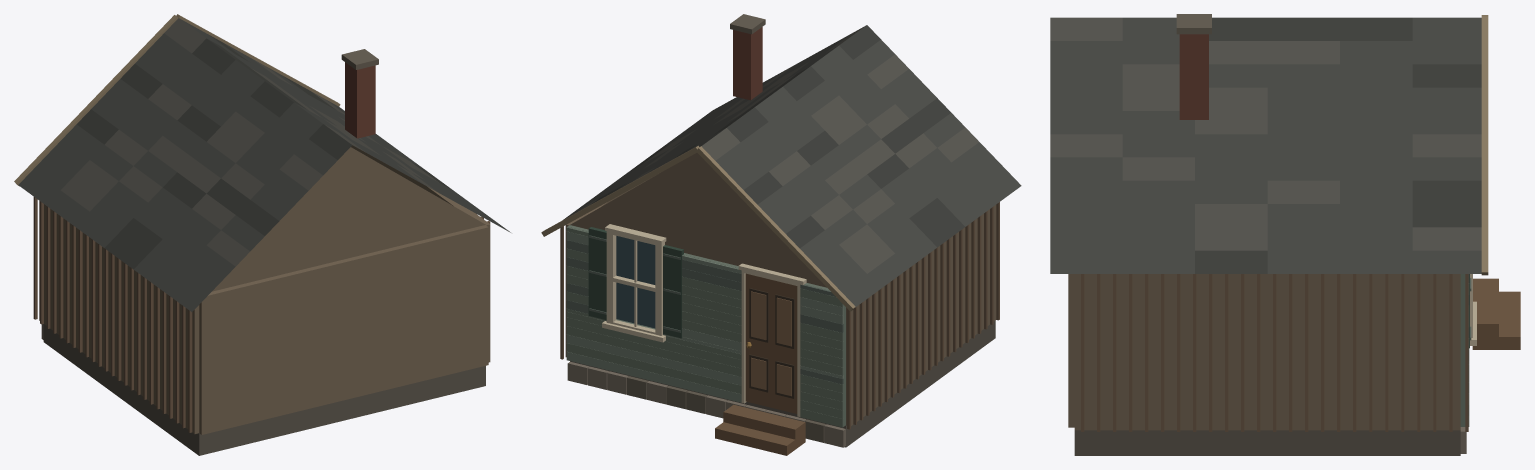
Rendered from black_creek_cottage_b.glb.
3 views of the same model, side by side, from view 1: azimuth 30°, elevation 25°; view 2: azimuth 150°, elevation 25°; view 3: azimuth 270°, elevation 25° (orthographic). The views are drawn at different scales.
Parts seen in each view (by area): view 1: black_creek_cottage_b; view 2: black_creek_cottage_b; view 3: black_creek_cottage_b.
Part boxes in pixels (left/top/right/bottom): black_creek_cottage_b: left=14, top=14, right=510, bottom=455; black_creek_cottage_b: left=541, top=14, right=1021, bottom=455; black_creek_cottage_b: left=1050, top=14, right=1520, bottom=455.
Size of the model in its own units: 5.51 by 5.08 by 5.59.
